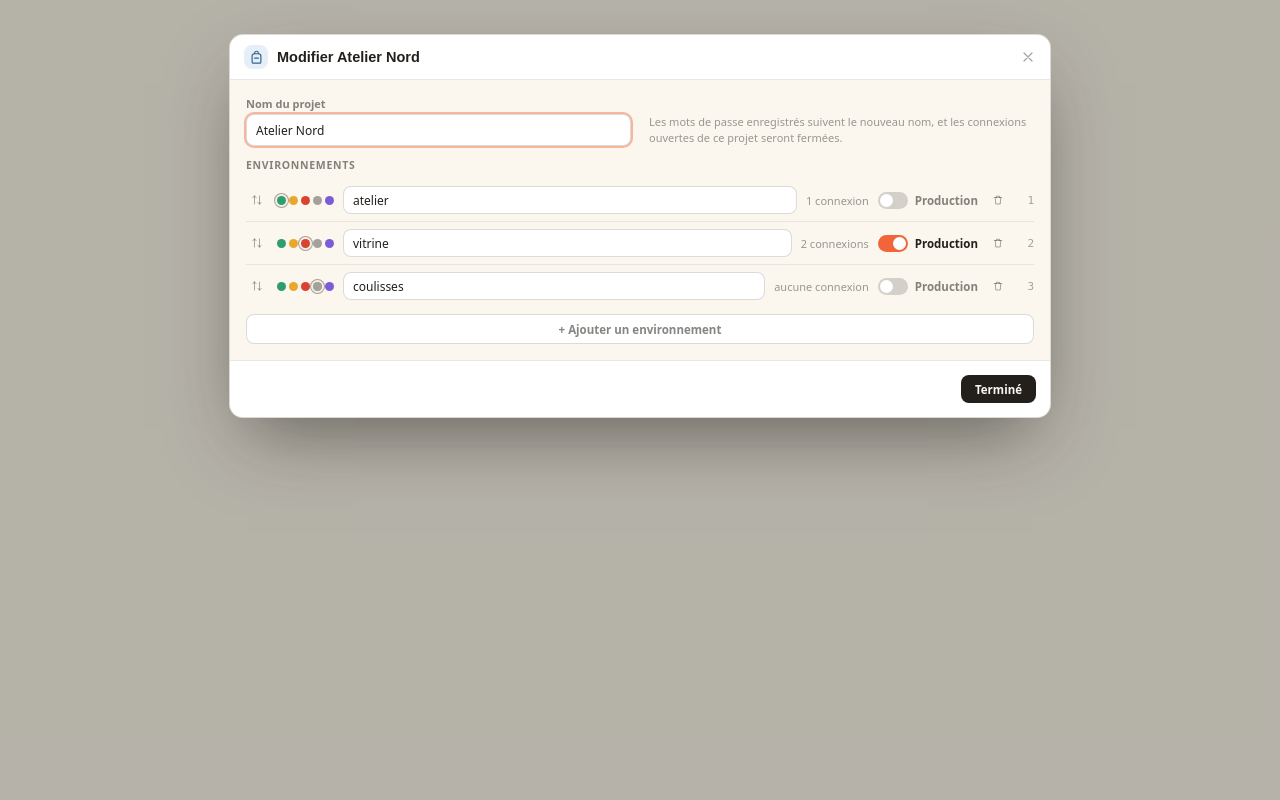
Test: un environnement qui porte des connexions demande confirmation, et les nomme
The image size is (1280, 800).
What coordinates should you click on to do the following:
click the button named "Retirer vitrine"
I would click on:
 (998, 243)
Its box is x1=987 y1=232 x2=1009 y2=254.
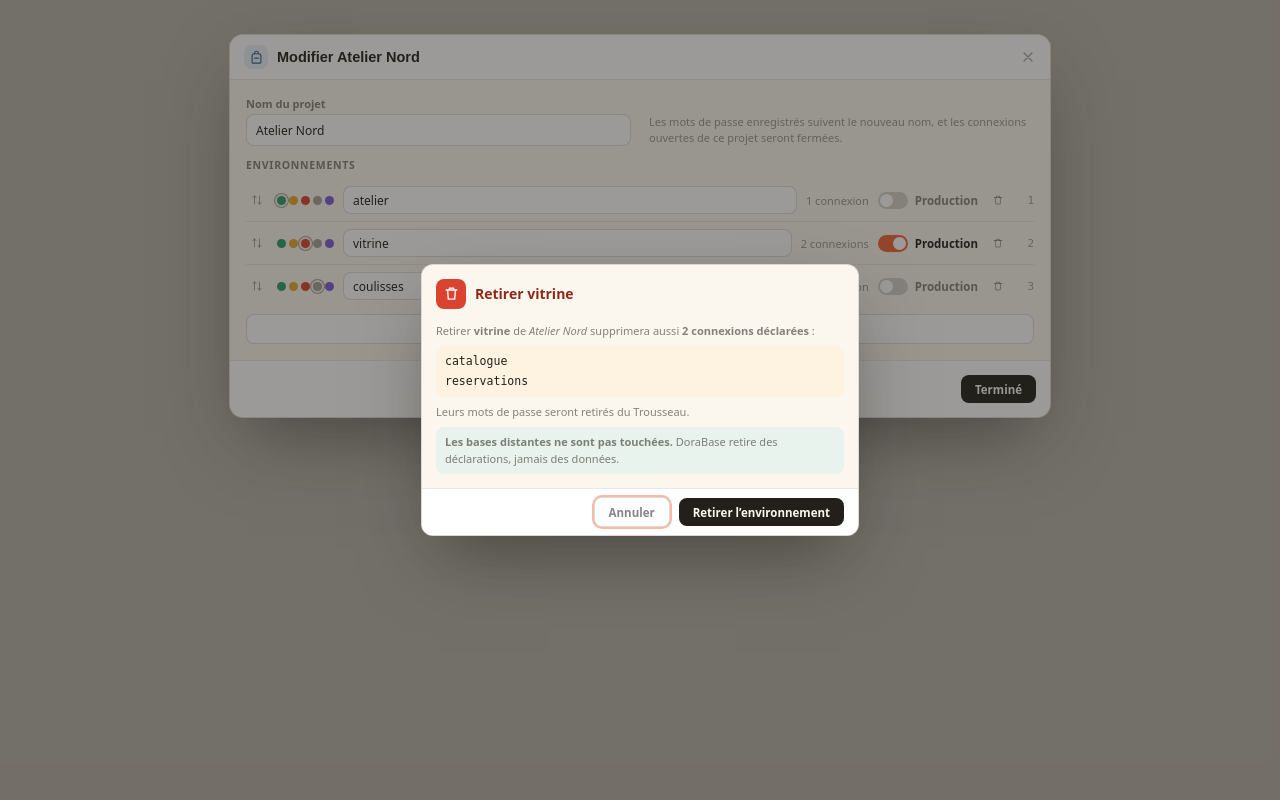
expect the dialog "Retirer vitrine" shows "2 connexions déclarées": met, box x1=682 y1=323 x2=809 y2=338
expect the dialog "Retirer vitrine" shows "catalogue": met, box x1=445 y1=354 x2=507 y2=368
expect the dialog "Retirer vitrine" shows "reservations": met, box x1=445 y1=374 x2=528 y2=388
